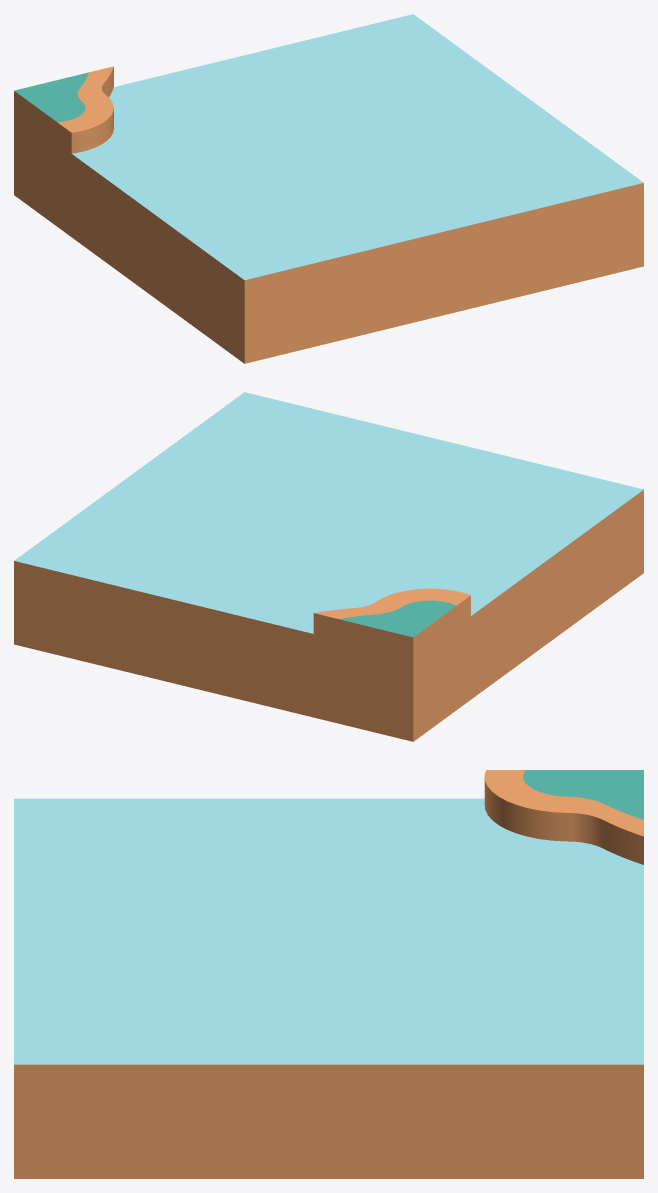
The model's file is ground_dirtRiverCornerInner.obj.
3 views of the same model, one above another, from view 1: azimuth 30°, elevation 25°; view 2: azimuth 150°, elevation 25°; view 3: azimuth 270°, elevation 25° (orthographic). The views are drawn at different scales.
Visible parts, largest first — view 1: ground_dirtRiverCornerInner; view 2: ground_dirtRiverCornerInner; view 3: ground_dirtRiverCornerInner.
Boxes of the visible parts, <box> form: ground_dirtRiverCornerInner: <box>14,14,643,363</box>; ground_dirtRiverCornerInner: <box>14,392,643,741</box>; ground_dirtRiverCornerInner: <box>14,770,643,1178</box>.
Size of the model in its own units: 10 by 2.5 by 10.
